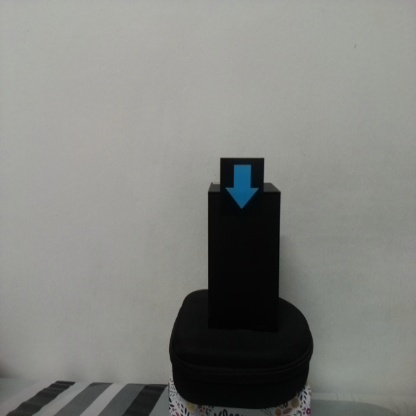id_2: (220, 160, 264, 215)
